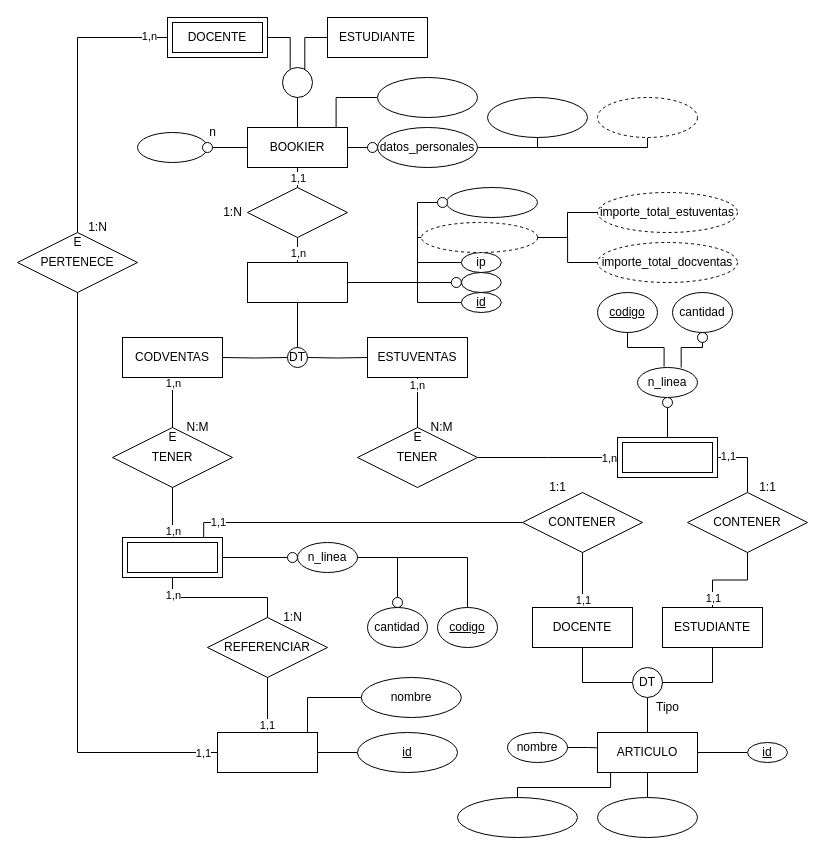
The diagram is 825 pixels wide and 855 high, and some of its shapes have lost their labels. The shapes that lost their labels are listed below. From the top down, each one's centre as x and y in pixels, then its label:
[297,82]: ST
[427,97]: nif
[537,117]: fecha_nacimiento
[647,117]: edad
[172,147]: n_tarjeta
[297,212]: REALIZAR
[491,202]: importe_venta
[479,237]: importe_venta_total
[297,282]: VENTA
[480,282]: fecha
[667,457]: LÍNEAS DE ESTUVENTAS
[172,557]: LÍNEAS DE DOCVENTAS
[267,752]: CENTRO
[517,817]: articulo_recomentado
[647,817]: precio_venta
